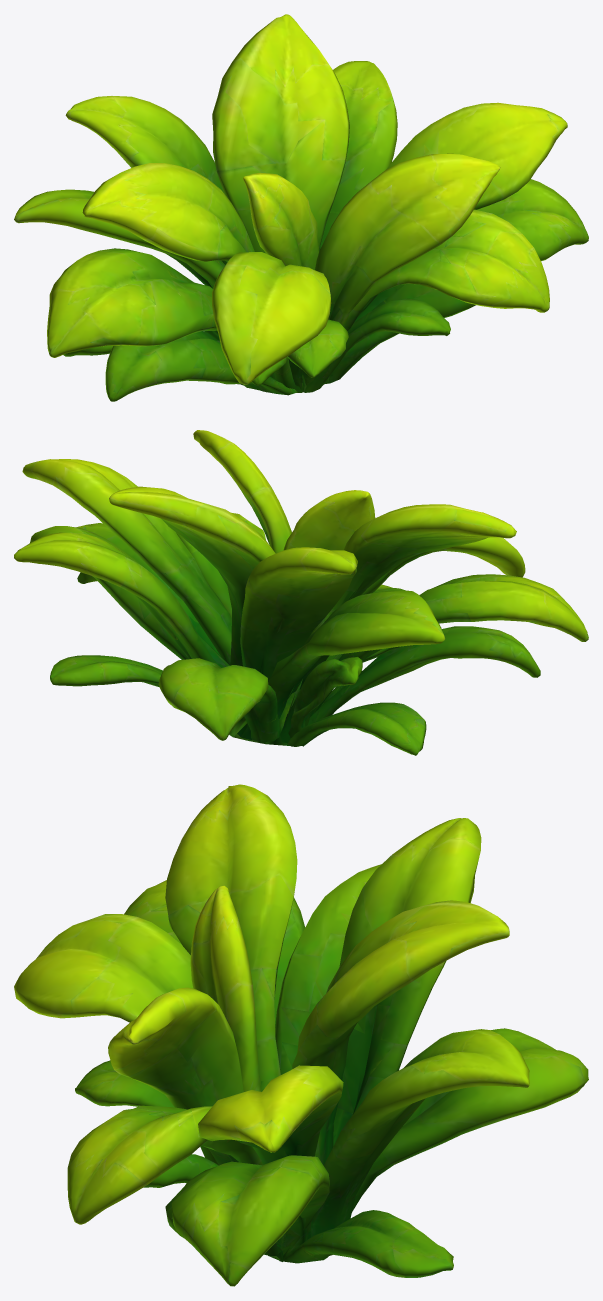
The model's file is shrub.glb.
The picture shows the model from 3 angles, top to bottom: view 1: azimuth 30°, elevation 25°; view 2: azimuth 150°, elevation 25°; view 3: azimuth 270°, elevation 25°; orthographic projection. The views are drawn at different scales.
Parts seen in each view (by area): view 1: geometry_0; view 2: geometry_0; view 3: geometry_0.
Part boxes in pixels (x1,y1,x2,y2): geometry_0: [14, 14, 588, 401]; geometry_0: [14, 430, 588, 755]; geometry_0: [14, 784, 588, 1286].
Bounding box in the file's own units: 0.9585 × 0.4673 × 0.6807.
1 material, 1 textured.
